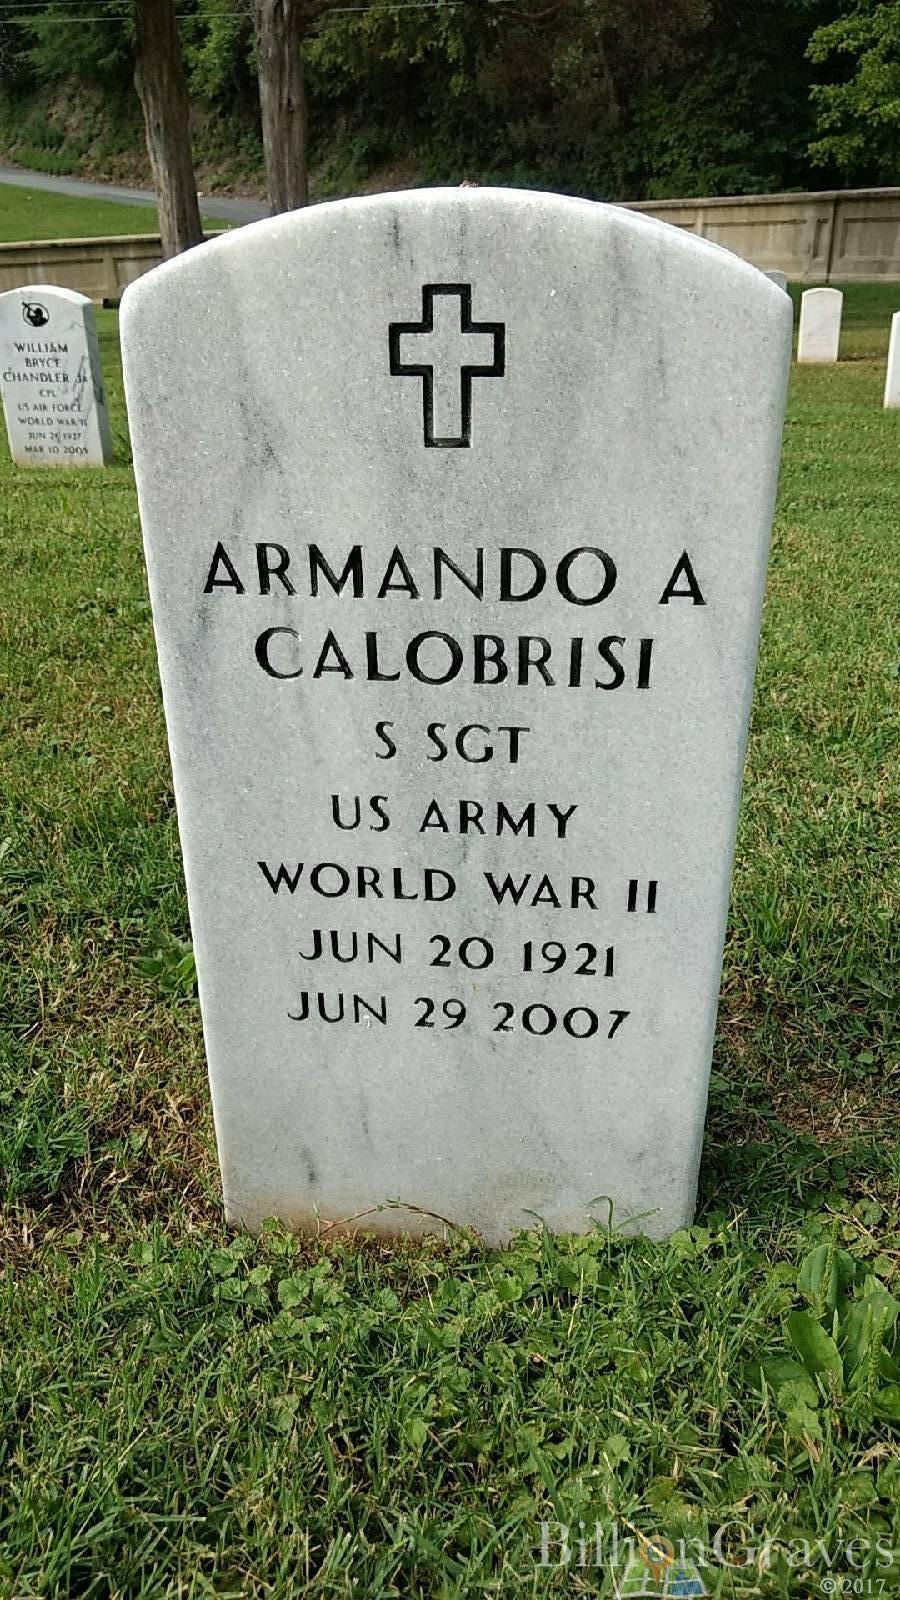military: (86, 167, 816, 1288)
